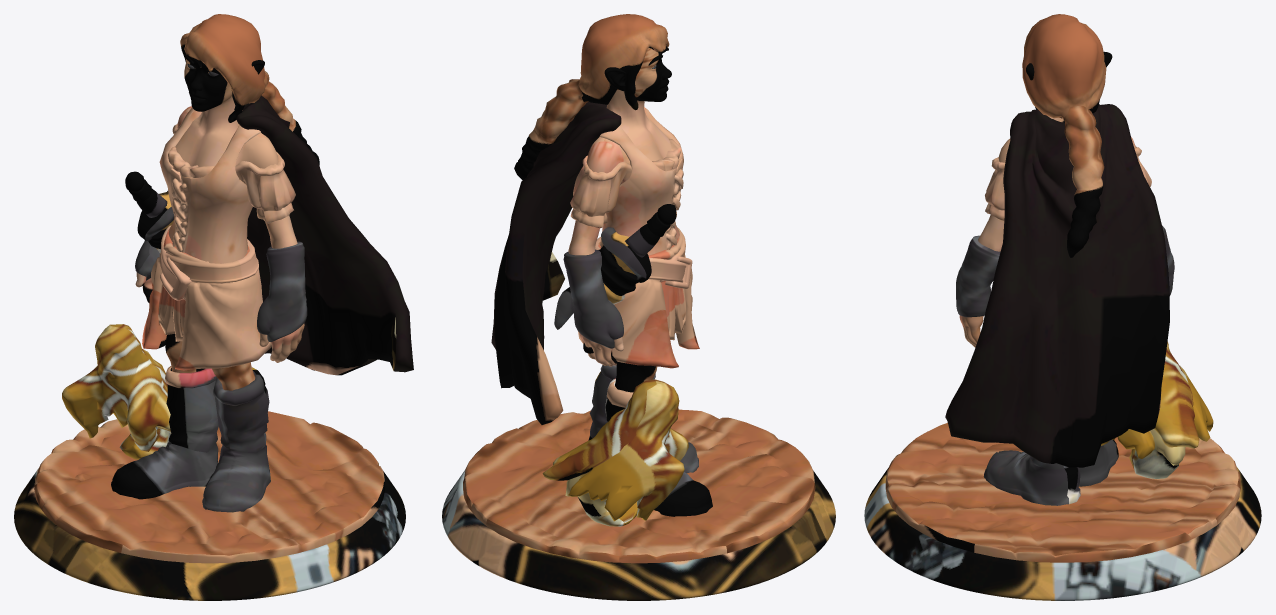
3 views of the same model, side by side, from view 1: azimuth 30°, elevation 25°; view 2: azimuth 150°, elevation 25°; view 3: azimuth 270°, elevation 25° (orthographic).
Parts seen in each view (by area): view 1: hf_4065889_5178528; view 2: hf_4065889_5178528; view 3: hf_4065889_5178528.
Boxes of the visible parts, bbox=[...] form: hf_4065889_5178528: bbox=[14, 14, 413, 600]; hf_4065889_5178528: bbox=[442, 14, 835, 600]; hf_4065889_5178528: bbox=[864, 14, 1261, 600].
Size of the model in its own units: 0.9652 by 1.35 by 0.9652.
